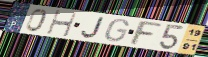0: (25, 8, 49, 32)
5: (158, 23, 185, 51)
F: (130, 19, 164, 47)
G: (103, 19, 130, 43)
H: (45, 10, 78, 39)
J: (80, 16, 106, 40)
